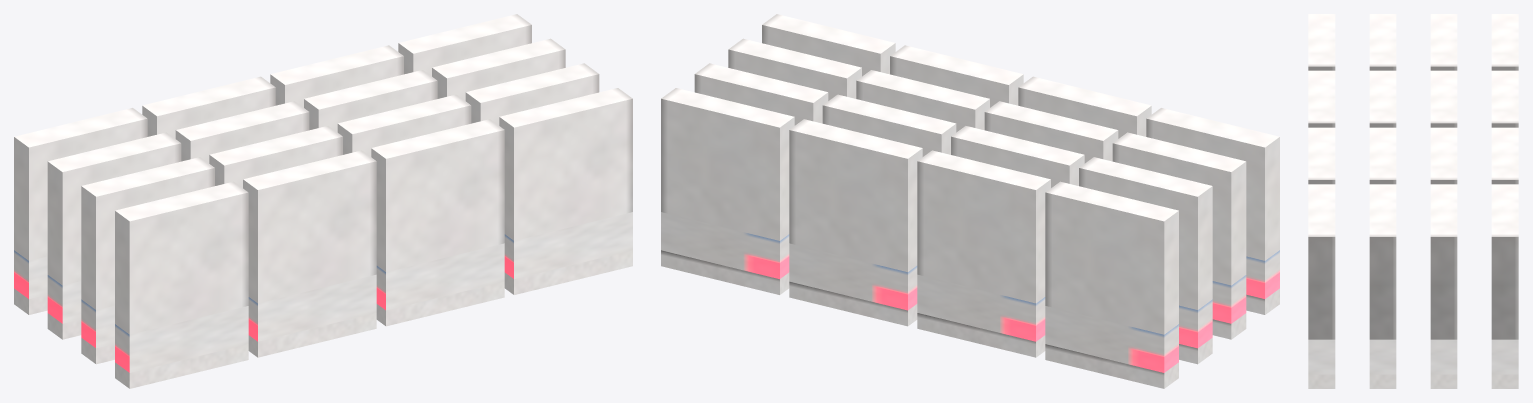
File: Cereal_Box.fbx
3 views of the same model, side by side, from view 1: azimuth 30°, elevation 25°; view 2: azimuth 150°, elevation 25°; view 3: azimuth 270°, elevation 25° (orthographic). The views are drawn at different scales.
Parts seen in each view (by area): view 1: cereal_box17; view 2: cereal_box17; view 3: cereal_box17.
Part boxes in pixels (left/top/right/bottom): cereal_box17: left=14, top=14, right=632, bottom=388; cereal_box17: left=661, top=14, right=1279, bottom=388; cereal_box17: left=1308, top=14, right=1518, bottom=388.
Size of the model in its own units: 86.39 by 27.49 by 34.41.
